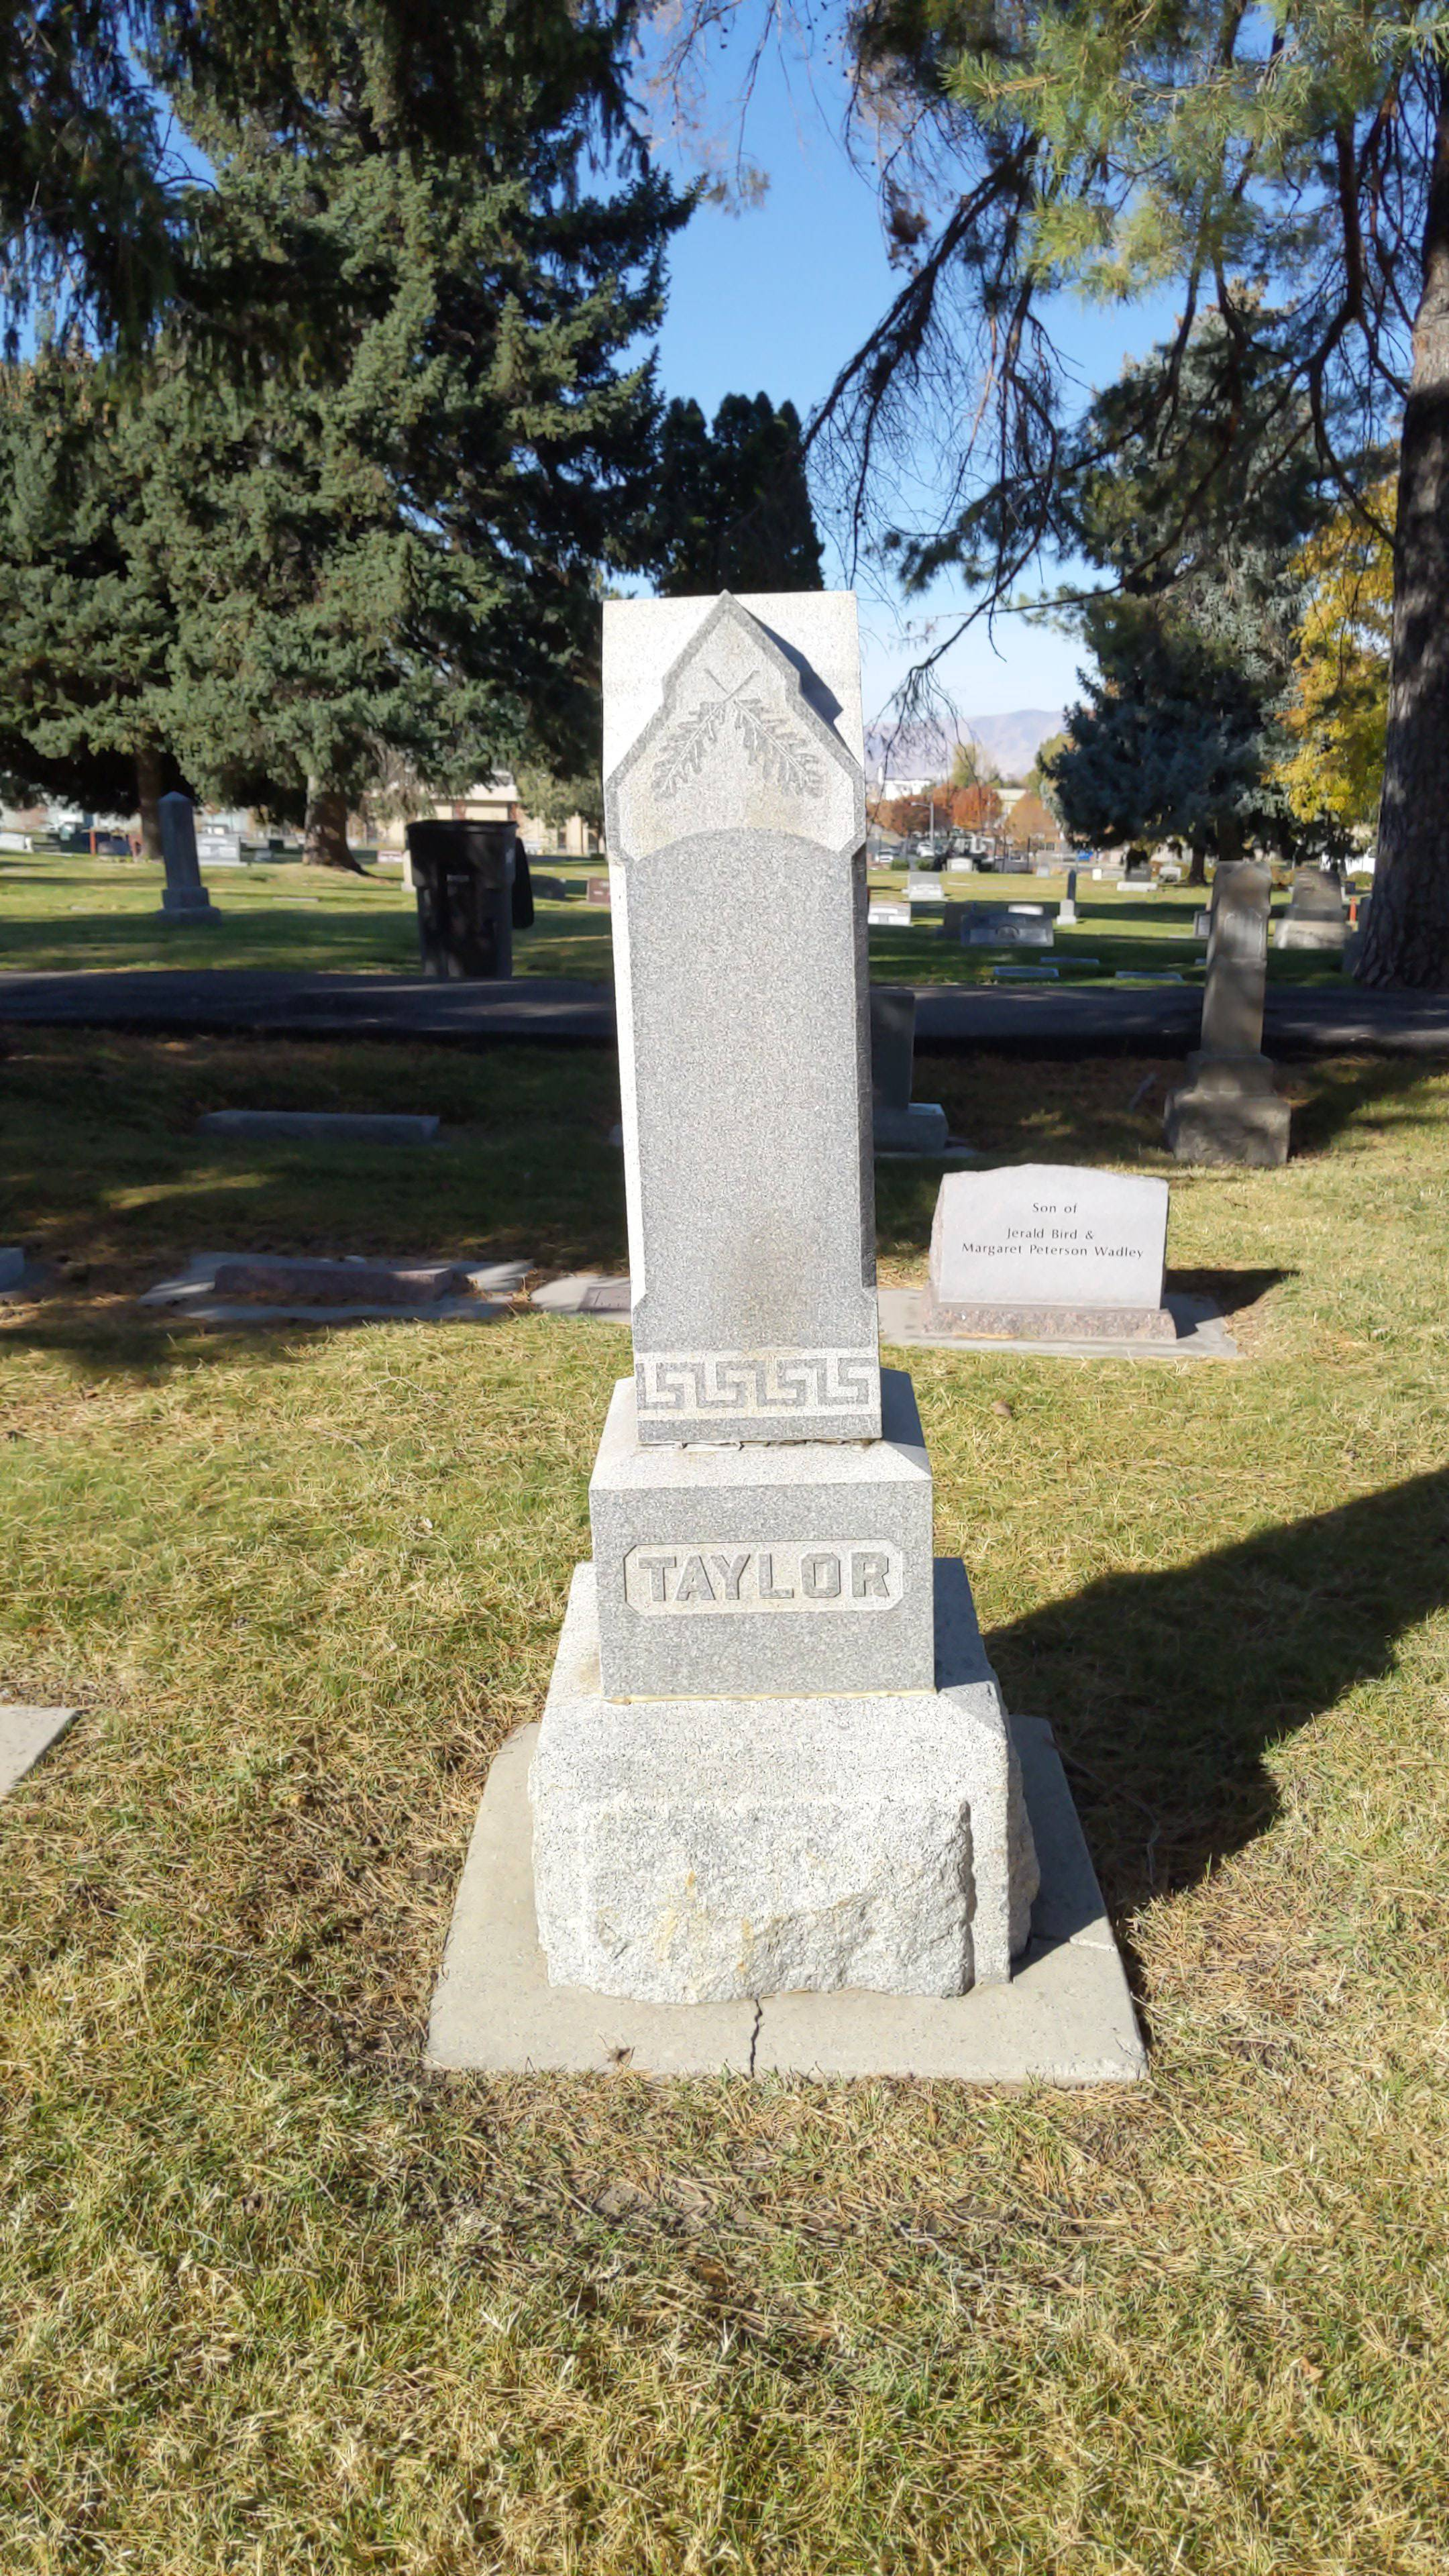obelisk: (586, 596, 947, 1697)
